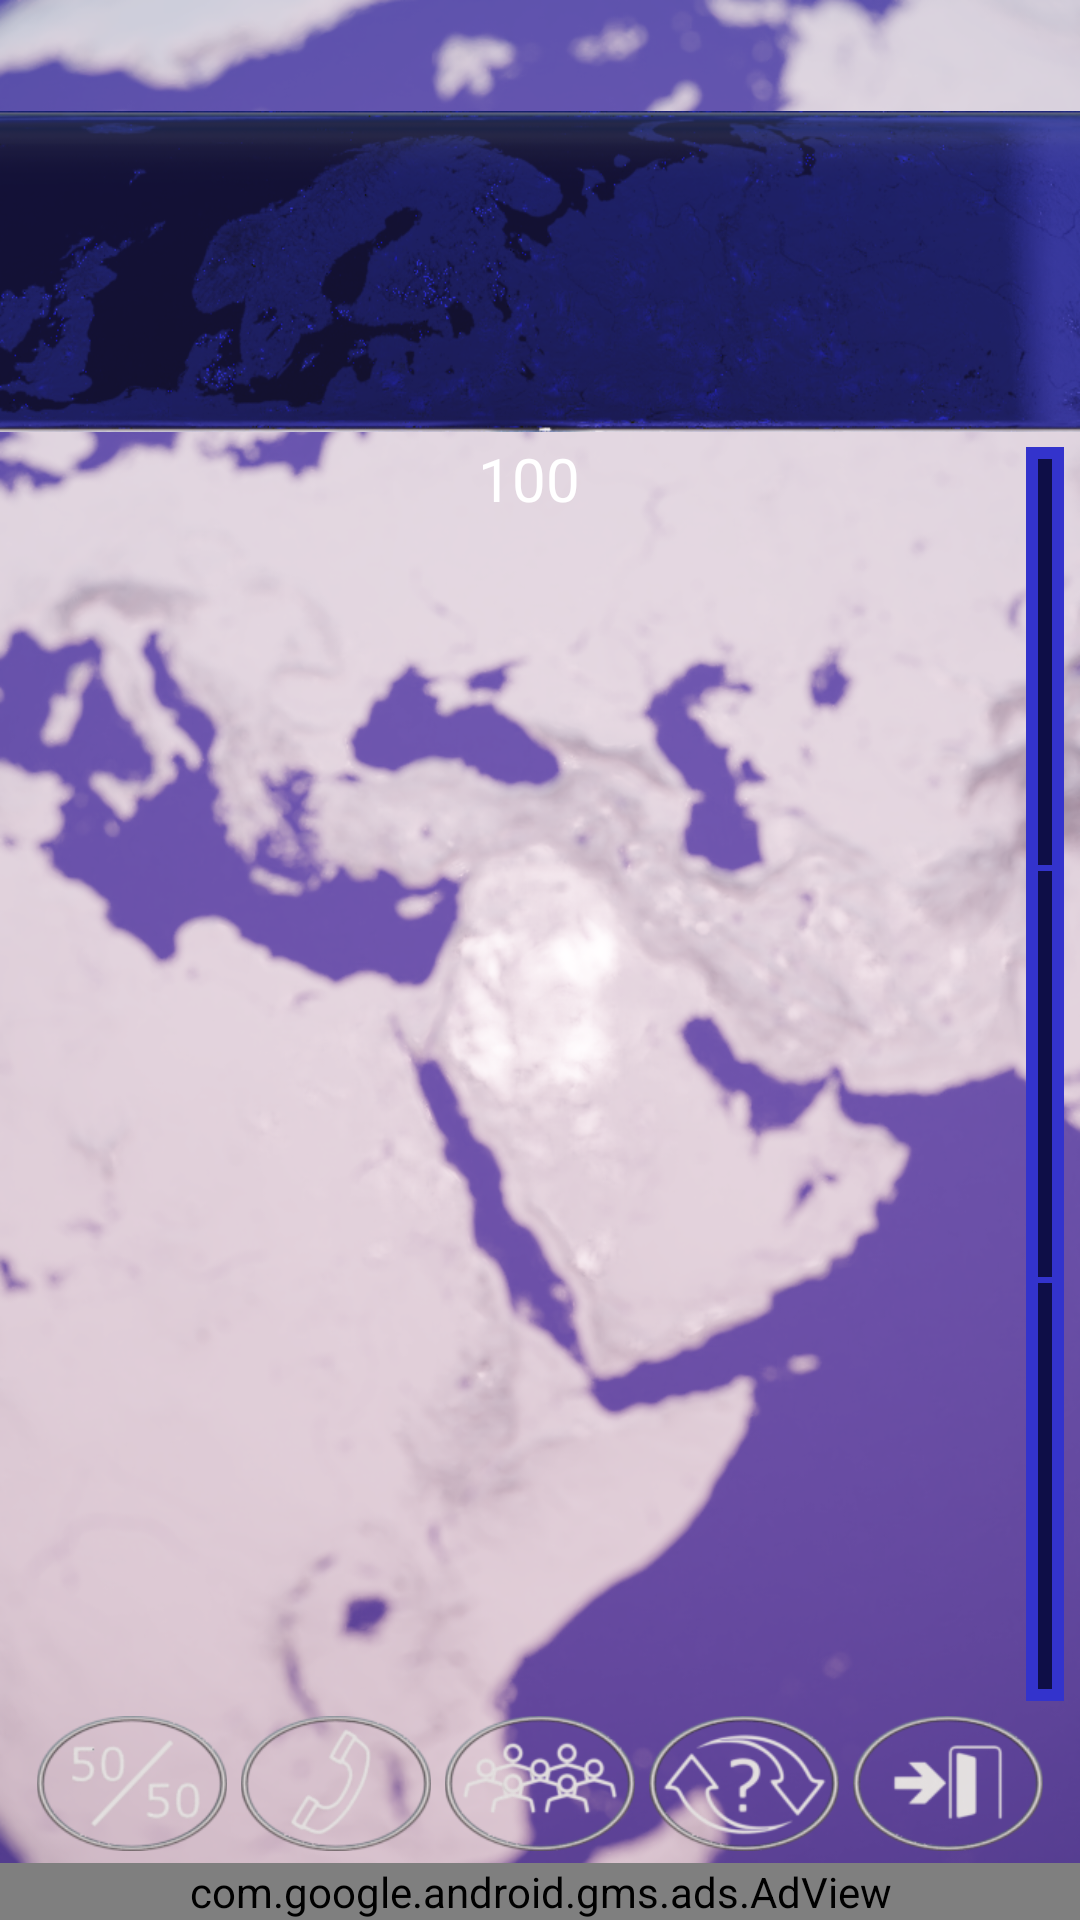

Icons on this 1080 × 1920 Android screen, each with the point to tap as [x,y]:
Cer părerea cuiva: [336,1783]
Renunț! Mă opresc aici: [948,1783]
Sar peste întrebare: [743,1783]
Întreb mulțimea: [540,1783]
